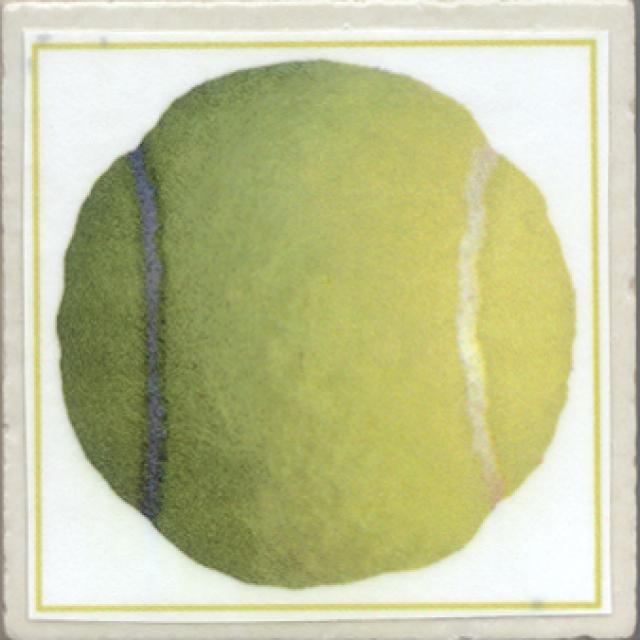Tennis Ball: (57, 61, 581, 589)
